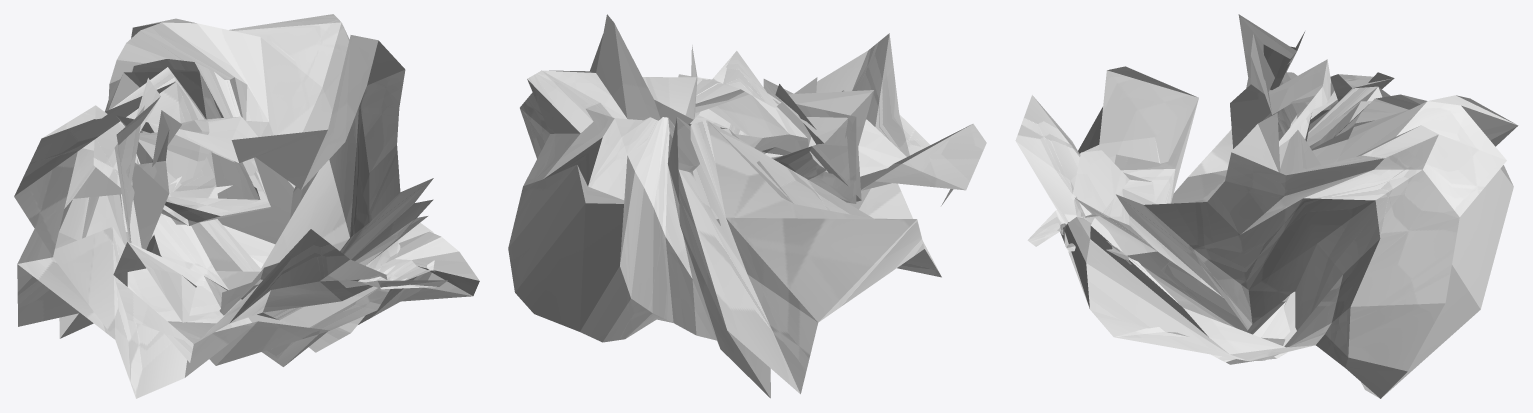
File: PaperBall.fbx
3 views of the same model, side by side, from view 1: azimuth 30°, elevation 25°; view 2: azimuth 150°, elevation 25°; view 3: azimuth 270°, elevation 25° (orthographic). The views are drawn at different scales.
Visible parts, largest first — view 1: Plane; view 2: Plane; view 3: Plane.
Part boxes in pixels (x1,y1,x2,y2): Plane: (14,14,479,398); Plane: (508,14,986,398); Plane: (1015,14,1518,398).
Bounding box in the file's own units: 86.65 × 66.89 × 106.
Materials: 1 (1 with a texture image).
